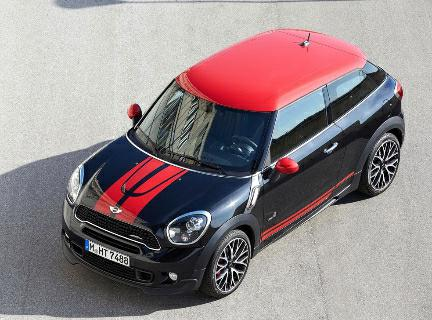MINI-JCWPACEMAN: (46, 34, 413, 293)
